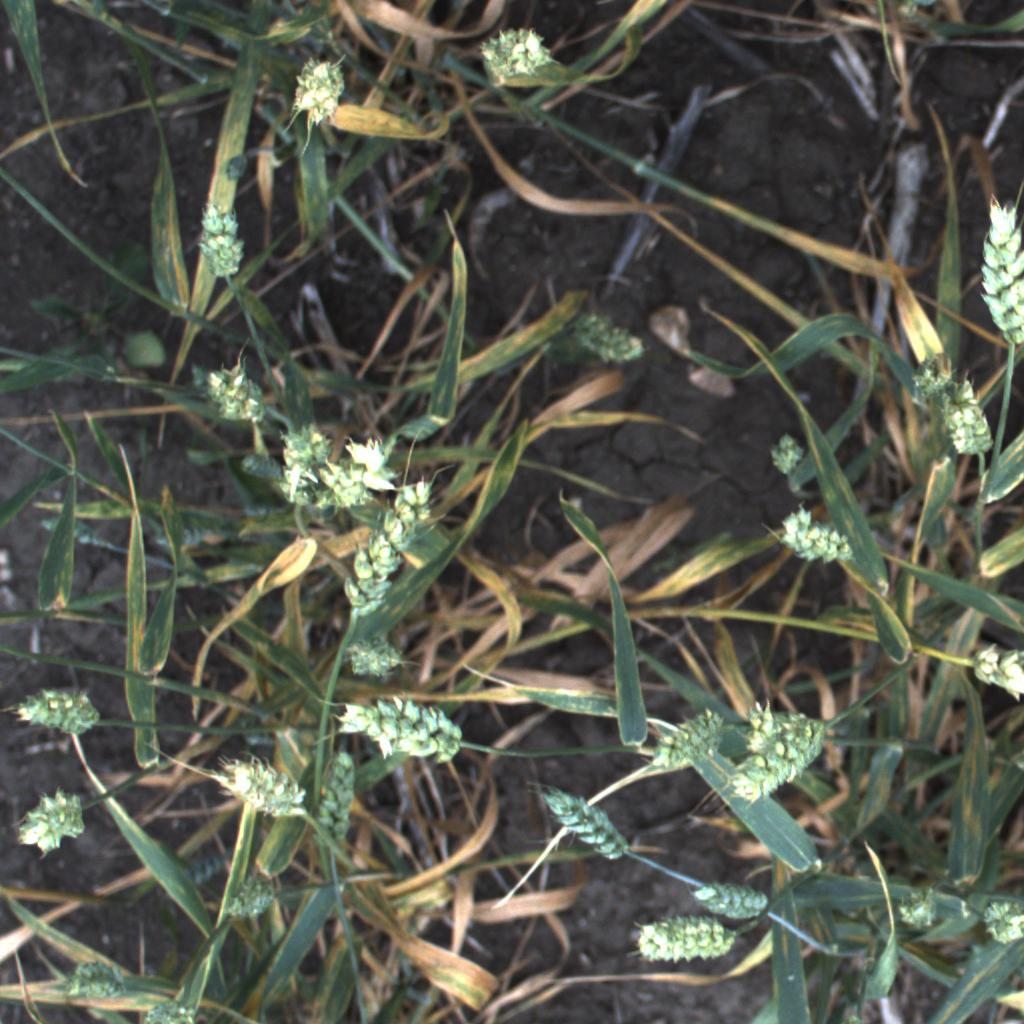0-0: (331, 472, 453, 628), (205, 727, 328, 840), (328, 680, 476, 770), (525, 764, 639, 872), (909, 350, 1005, 470), (960, 185, 1024, 355), (0, 660, 113, 753), (729, 704, 828, 808), (623, 905, 751, 979), (630, 699, 734, 789), (462, 14, 568, 97), (6, 764, 92, 860), (767, 496, 867, 577), (282, 37, 357, 139), (566, 299, 659, 379), (183, 192, 260, 287), (196, 346, 277, 436), (323, 420, 398, 515), (203, 867, 291, 930), (684, 867, 776, 927), (46, 953, 140, 1007), (314, 740, 359, 844), (964, 630, 1024, 707), (276, 423, 330, 506), (889, 880, 951, 938), (978, 883, 1024, 959), (759, 428, 819, 484), (348, 634, 416, 676), (140, 997, 195, 1023), (1017, 205, 1024, 355)
